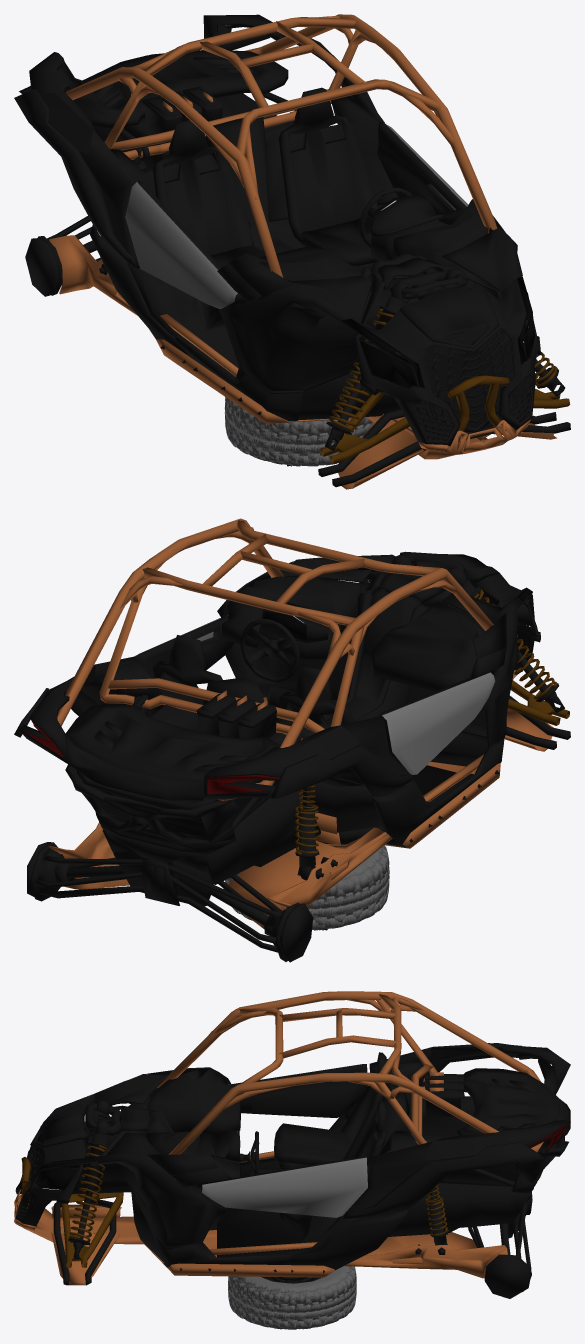
The model's file is can_am_maverick_rig.glb.
The picture shows the model from 3 angles, top to bottom: view 1: azimuth 30°, elevation 25°; view 2: azimuth 150°, elevation 25°; view 3: azimuth 270°, elevation 25°; orthographic projection. The views are drawn at different scales.
Visible parts, largest first — view 1: Body_Mesh, Wheel_RL_Mesh, Wheel_FR_Mesh, Wheel_FL_Mesh, Wheel_RR_Mesh; view 2: Body_Mesh, Wheel_RL_Mesh, Wheel_FL_Mesh, Wheel_FR_Mesh, Wheel_RR_Mesh; view 3: Body_Mesh, Wheel_RL_Mesh, Wheel_FL_Mesh, Wheel_FR_Mesh, Wheel_RR_Mesh.
Boxes of the visible parts, x1=… form: Body_Mesh: x1=14, y1=14, x2=570, y2=489; Wheel_RL_Mesh: x1=225, y1=397, x2=373, y2=465; Wheel_FR_Mesh: x1=225, y1=400, x2=371, y2=466; Wheel_FL_Mesh: x1=224, y1=397, x2=373, y2=466; Wheel_RR_Mesh: x1=225, y1=399, x2=371, y2=466; Body_Mesh: x1=14, y1=518, x2=570, y2=962; Wheel_RL_Mesh: x1=225, y1=845, x2=389, y2=929; Wheel_FL_Mesh: x1=225, y1=848, x2=389, y2=930; Wheel_FR_Mesh: x1=225, y1=841, x2=389, y2=930; Wheel_RR_Mesh: x1=225, y1=843, x2=389, y2=930; Body_Mesh: x1=14, y1=991, x2=570, y2=1298; Wheel_RL_Mesh: x1=228, y1=1266, x2=356, y2=1328; Wheel_FL_Mesh: x1=228, y1=1266, x2=356, y2=1329; Wheel_FR_Mesh: x1=228, y1=1267, x2=356, y2=1329; Wheel_RR_Mesh: x1=228, y1=1268, x2=356, y2=1329.
Size of the model in its own units: 1.6 by 2.01 by 3.34.
